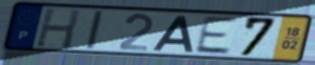2: (117, 12, 156, 53)
7: (239, 15, 279, 58)
A: (150, 15, 195, 54)
E: (192, 15, 239, 56)
H: (33, 7, 83, 50)
I: (84, 10, 106, 50)
